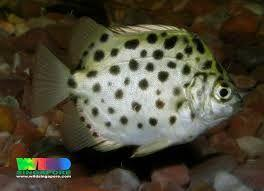Scat Fish: (30, 15, 246, 161)
